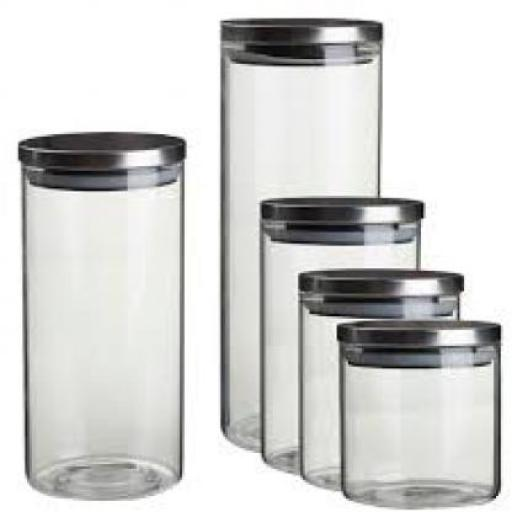glass: (219, 48, 382, 448), (20, 166, 178, 499), (260, 221, 421, 476), (298, 298, 455, 493), (339, 344, 494, 503)
metal: (296, 264, 460, 296), (19, 132, 182, 164), (335, 319, 496, 348), (216, 16, 380, 42), (260, 192, 421, 218)
